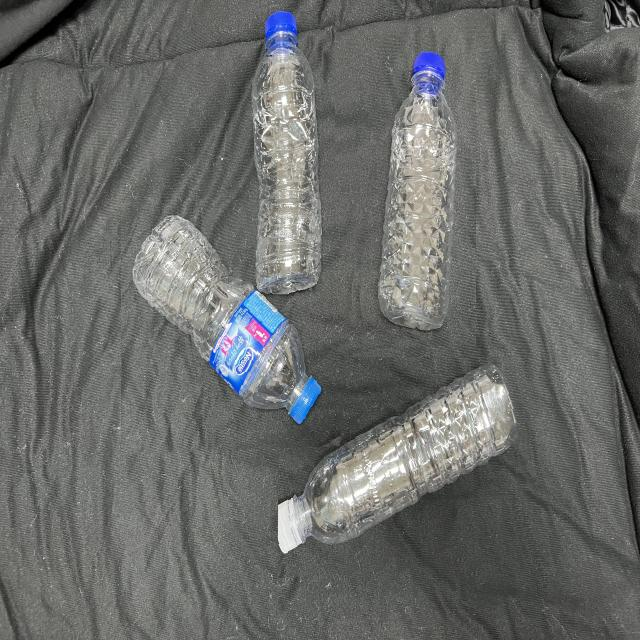plastic bottle: (121, 199, 346, 448), (278, 357, 530, 577), (362, 36, 476, 346), (245, 11, 336, 303)
